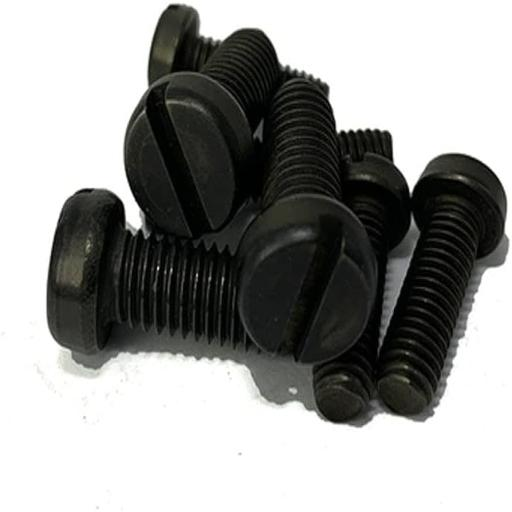Slotted: (233, 193, 378, 370), (122, 74, 250, 237)
